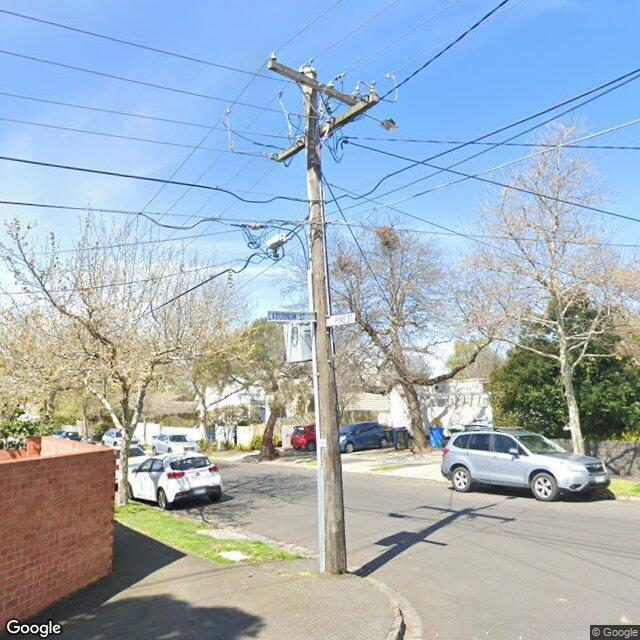crossarm: (273, 95, 378, 161), (267, 58, 358, 105)
streetlight: (362, 111, 398, 132)
timber-pole: (302, 67, 346, 576)
